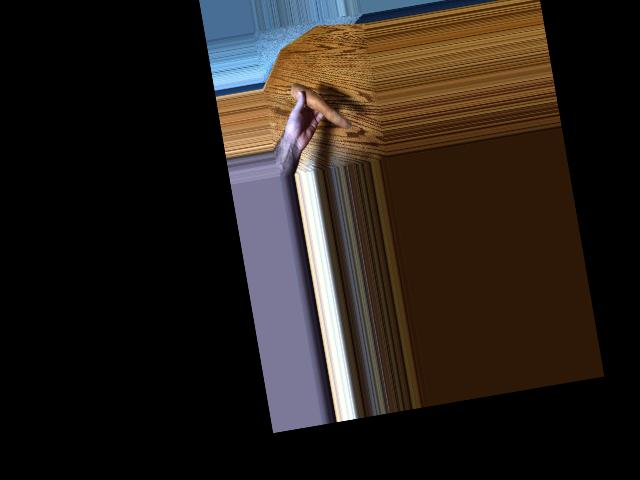sweet_potato: (289, 77, 350, 136)
